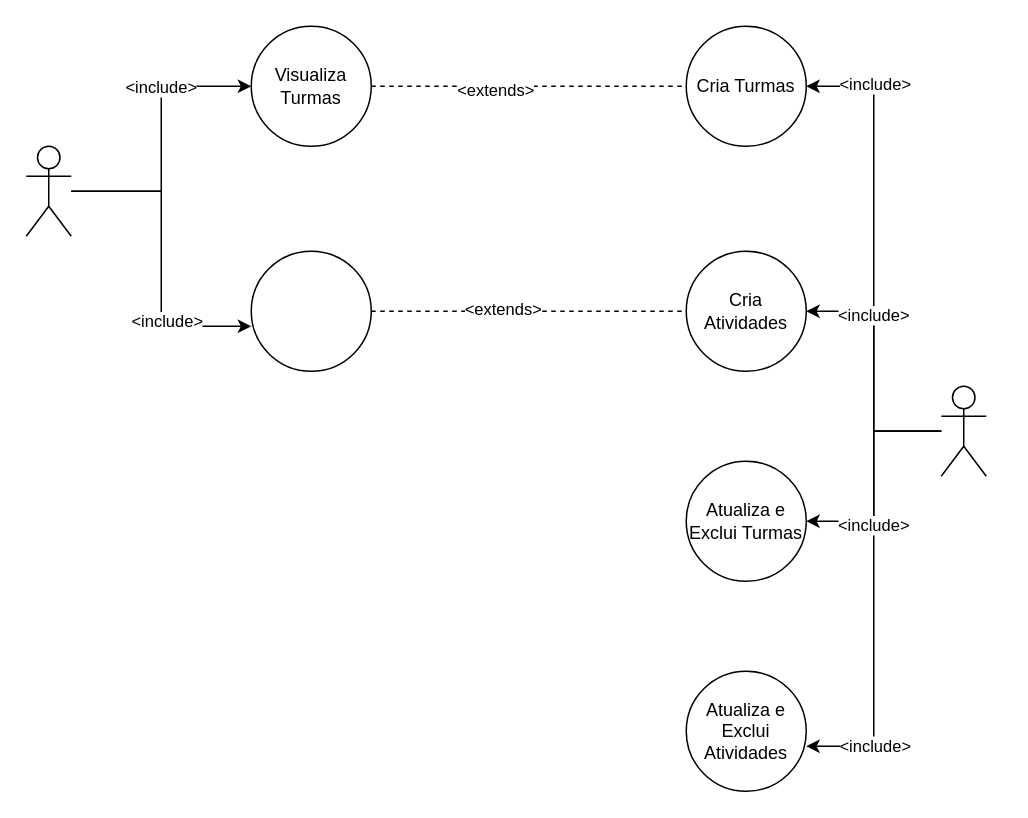
This 1028x818 diagram has some shape labels left out. Each missing label, with the centre of its shape:
"Aluno" goes at [48,190].
"Professor" goes at [963,430].
"Visualiza Atividades" goes at [310,310].
